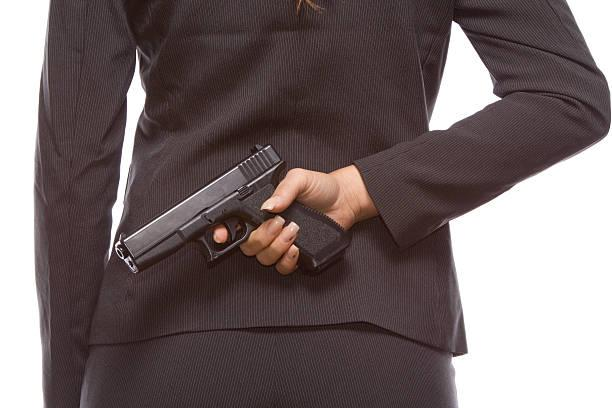weapon: (111, 141, 356, 278)
